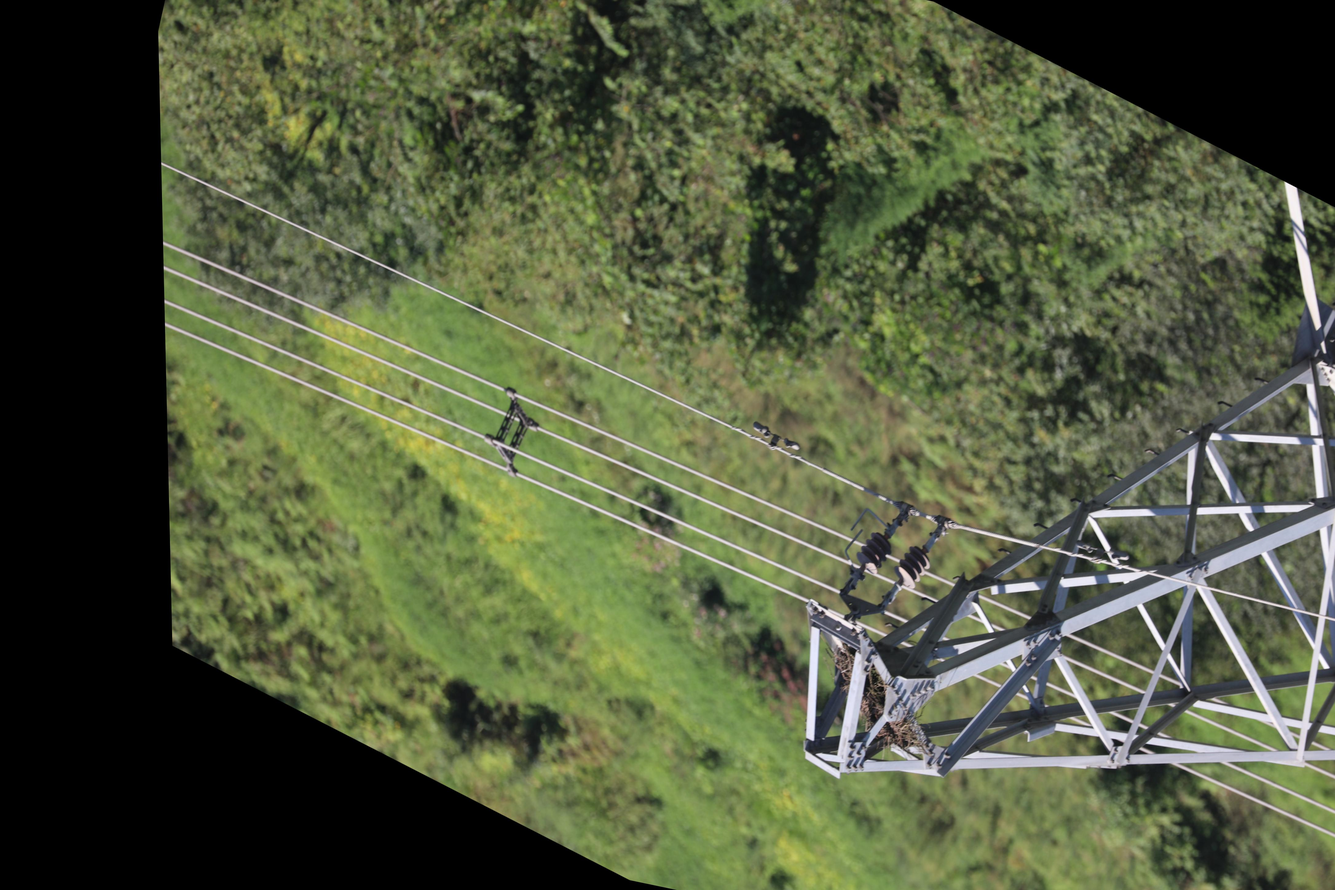damper: (1070, 522, 1134, 584), (746, 414, 805, 469)
